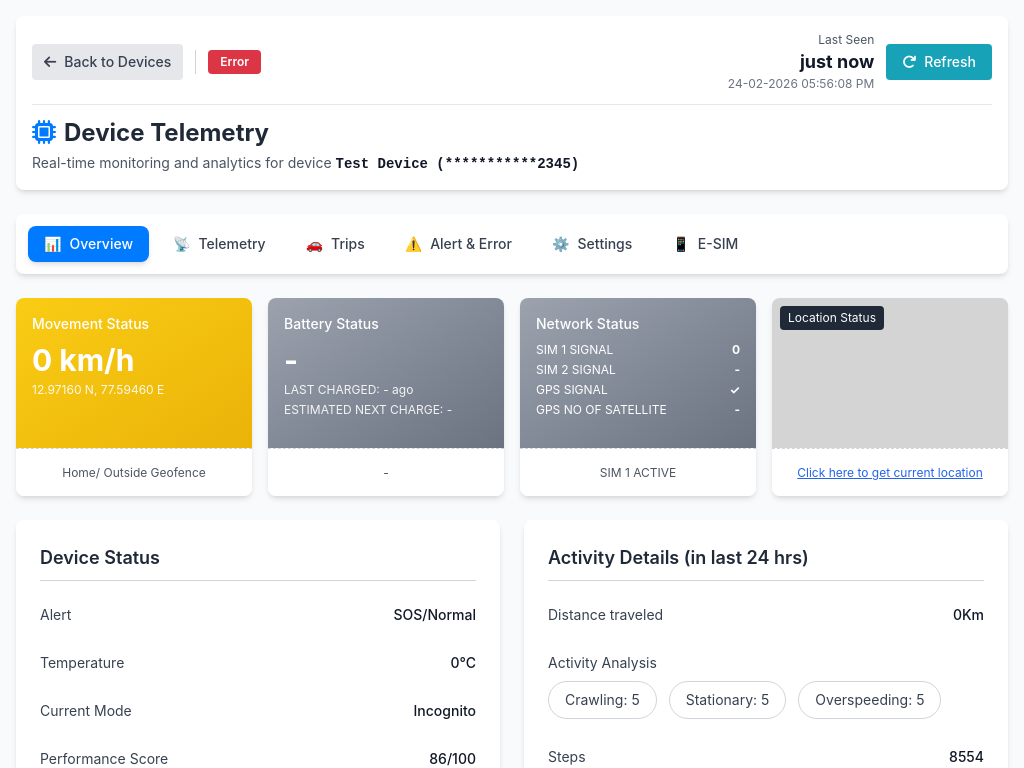
Test: Bug Condition Exploration: Ambient Listen Toggle Status › should set toggle to ON when API returns AMBIENT_STOP with "Start" payload
Navigate to Settings tab
Click the button "⚙️ Settings".
click(592, 244)  # box 536,226 -> 648,262
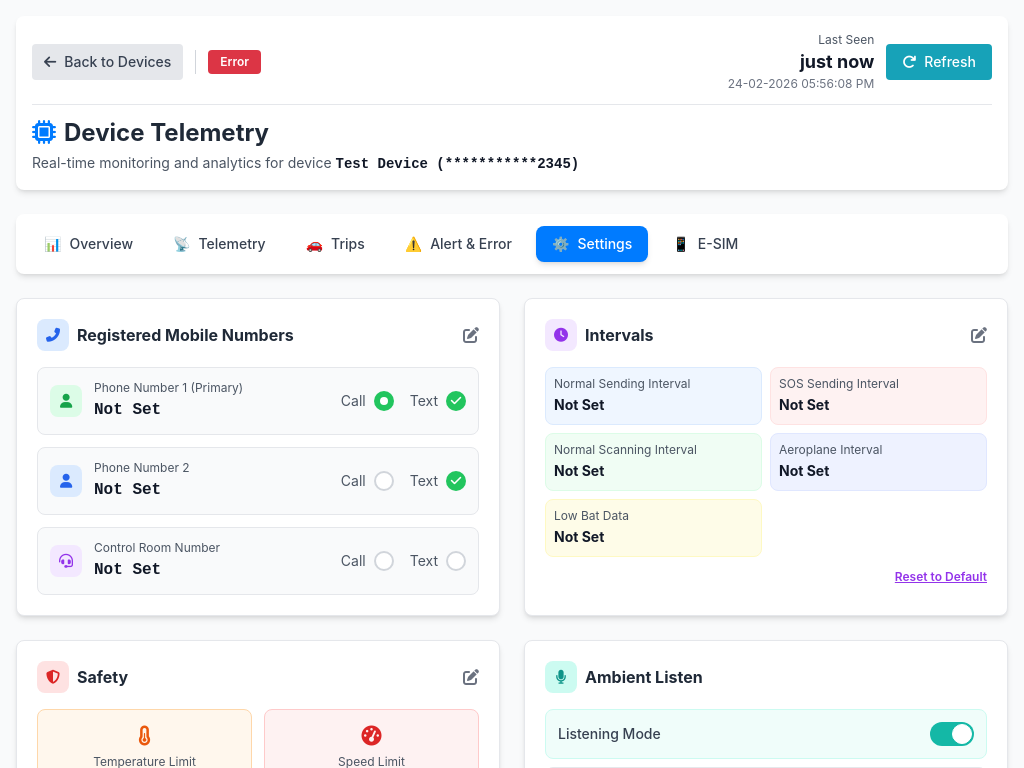
Check: the text "Listening Mode" is shown, box 558,724 -> 661,744
Check: the checkbox is checked, box 930,722 -> 974,746
